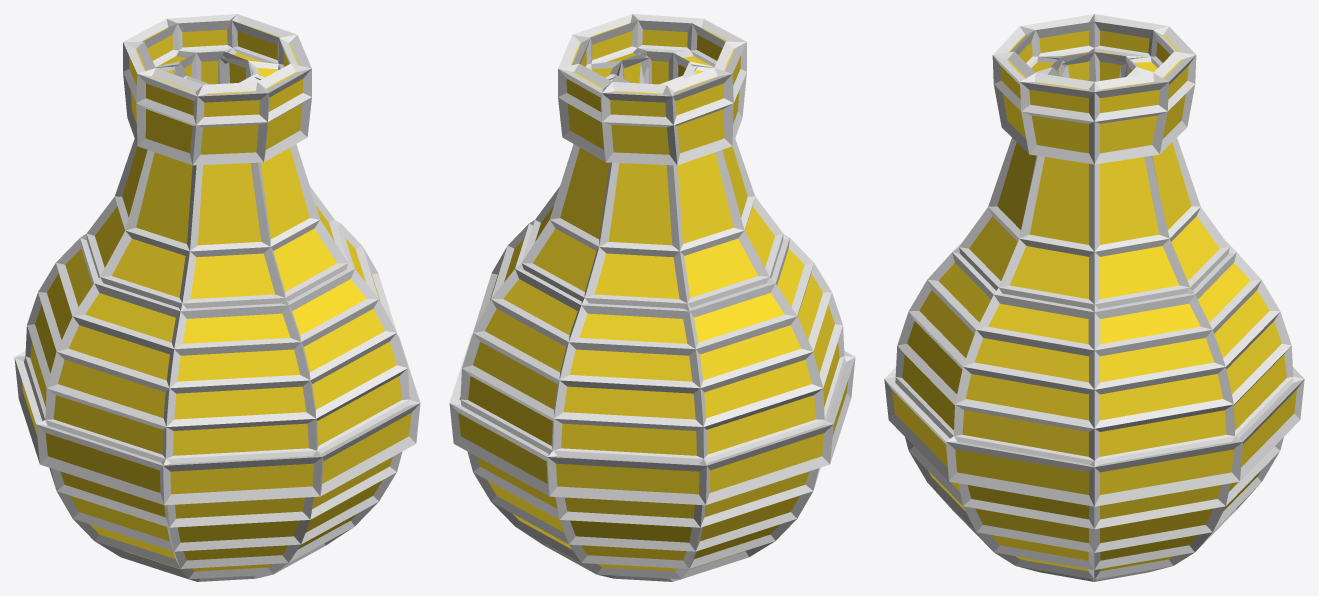
File: Jarron.fbx
3 renders of one model, left to right at view 1: azimuth 30°, elevation 25°; view 2: azimuth 150°, elevation 25°; view 3: azimuth 270°, elevation 25°, orthographic.
Parts seen in each view (by area): view 1: Jarron; view 2: Jarron; view 3: Jarron.
Boxes of the visible parts, x1,y1,x2,y2 form: Jarron: [14, 14, 420, 581]; Jarron: [449, 14, 855, 581]; Jarron: [884, 14, 1304, 581].
Size of the model in its own units: 215 by 289 by 215.
